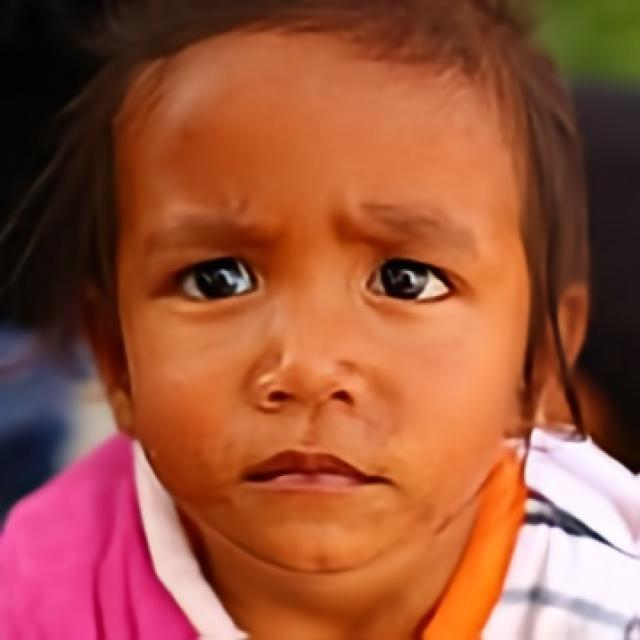fear: (122, 30, 522, 574)
